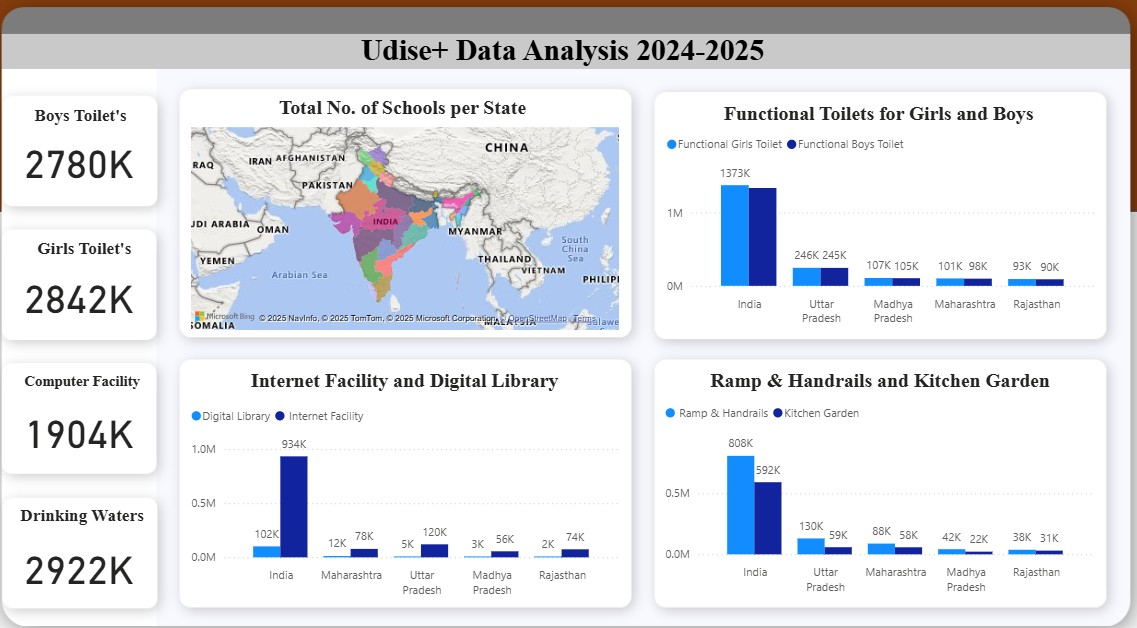

The page's visual inventory and layout, read from the dashboard file:
{"tool":"powerbi","page":{"name":"Udise analysis 2","canvas":[1280,720],"ordinal":2},"visuals":[{"type":"filledMap","fields":{"Category":["Udise 2024-2025.India/State/UT"],"Series":["Udise 2024-2025.No.of Schools"]},"box":[228.2,142.6,474.7,232.2],"z":0},{"type":"textbox","box":[228.2,112,474.7,38.7],"z":1000},{"type":"card","fields":{"Values":["Sum(Udise 2024-2025.Boys Toilet)"]},"box":[34.5,140,154,92],"z":2000},{"type":"card","fields":{"Values":["Sum(Udise 2024-2025.Girls Toilet)"]},"box":[34.5,286.7,154,92],"z":3000},{"type":"card","fields":{"Values":["Sum(Udise 2024-2025.Computer facility)"]},"box":[34.5,433.3,154,92],"z":4000},{"type":"card","fields":{"Values":["Sum(Udise 2024-2025.Drinking Water)"]},"box":[34.5,580,154,92],"z":5000},{"type":"textbox","box":[38,122,152,44],"z":6000},{"type":"textbox","box":[38.9,266.7,152,44],"z":7000},{"type":"textbox","box":[38.9,411.3,152,44],"z":8000},{"type":"textbox","box":[38.9,556,152,44],"z":9000},{"type":"clusteredColumnChart","fields":{"Category":["Udise 2024-2025.India/State/UT"],"Y":["Sum(Udise 2024-2025.Functional Girls Toilet)","Sum(Udise 2024-2025.Functional Boys Toilet)"]},"box":[744,150,474,224],"z":10000},{"type":"textbox","box":[742,118,474,38],"z":11000},{"type":"clusteredColumnChart","fields":{"Category":["Udise 2024-2025.India/State/UT"],"Y":["Sum(Udise 2024-2025.Digital Library)","Sum(Udise 2024-2025.Internet Facility)"]},"box":[228,444,474,224],"z":12000},{"type":"textbox","box":[228,408,474,38],"z":13000},{"type":"clusteredColumnChart","fields":{"Category":["Udise 2024-2025.India/State/UT"],"Y":["Sum(Udise 2024-2025.Ramp and Handrails)","Sum(Udise 2024-2025.Kitchen Garden)"]},"box":[742,440,474,224],"z":14000},{"type":"textbox","box":[744,408,474,38],"z":15000},{"type":"textbox","box":[135,44,1010,48],"z":16000}]}

Visuals, with their boxes in screenshot pixels (x1, y1, x2, y2), scaled from the page's 1280x720 canvas onto the 1137x628 screenshot:
filledMap - Udise 2024-2025.India/State/UT x Udise 2024-2025.No.of Schools: 203, 124, 624, 327
textbox: 203, 98, 624, 131
card - Sum(Udise 2024-2025.Boys Toilet): 31, 122, 167, 202
card - Sum(Udise 2024-2025.Girls Toilet): 31, 250, 167, 330
card - Sum(Udise 2024-2025.Computer facility): 31, 378, 167, 458
card - Sum(Udise 2024-2025.Drinking Water): 31, 506, 167, 586
textbox: 34, 106, 169, 145
textbox: 35, 233, 170, 271
textbox: 35, 359, 170, 397
textbox: 35, 485, 170, 523
clusteredColumnChart - Udise 2024-2025.India/State/UT x Sum(Udise 2024-2025.Functional Girls Toilet): 661, 131, 1082, 326
textbox: 659, 103, 1080, 136
clusteredColumnChart - Udise 2024-2025.India/State/UT x Sum(Udise 2024-2025.Digital Library): 203, 387, 624, 583
textbox: 203, 356, 624, 389
clusteredColumnChart - Udise 2024-2025.India/State/UT x Sum(Udise 2024-2025.Ramp and Handrails): 659, 384, 1080, 579
textbox: 661, 356, 1082, 389
textbox: 120, 38, 1017, 80
